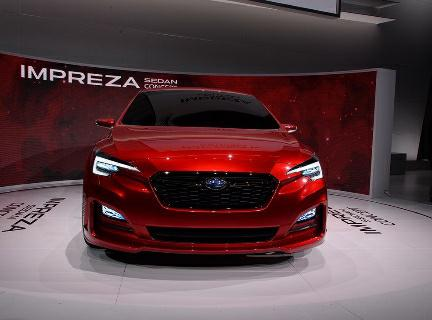斯巴鲁-翼豹: (80, 82, 334, 260)
